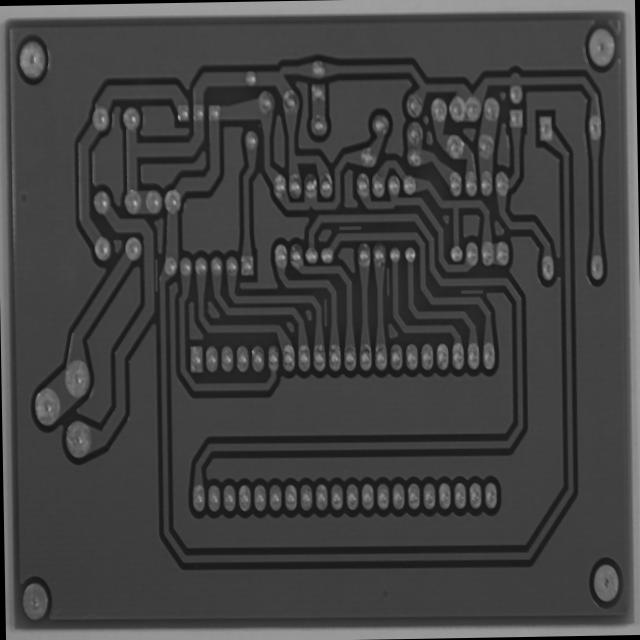spurious_copper: (336, 220, 364, 238), (382, 262, 394, 301), (150, 250, 160, 295), (456, 283, 485, 298), (320, 293, 330, 330)
